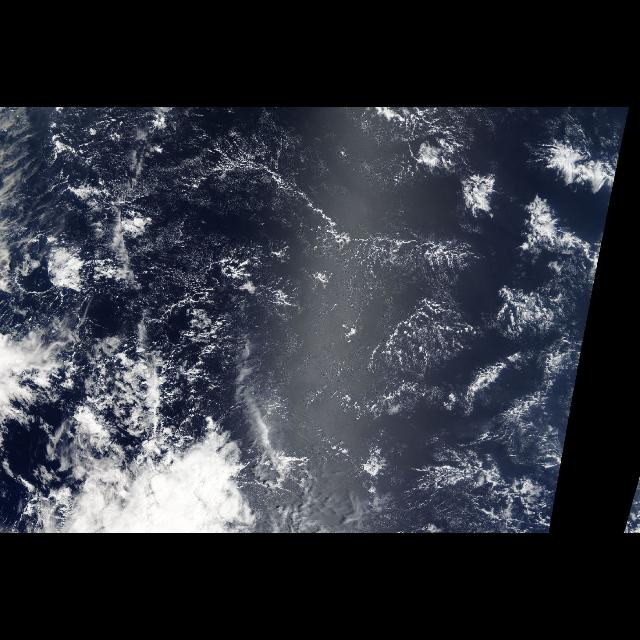Fish: (177, 142, 485, 272)
Flower: (357, 114, 629, 526), (624, 477, 640, 527)
Gravel: (78, 123, 372, 369)
Sugar: (150, 119, 392, 275)
